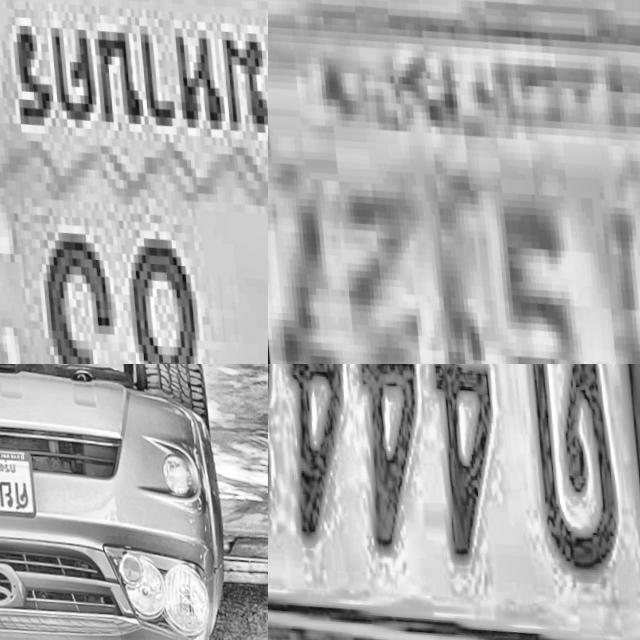license-plate: (268, 0, 640, 364), (268, 364, 640, 640), (0, 0, 268, 364), (0, 424, 40, 521)
